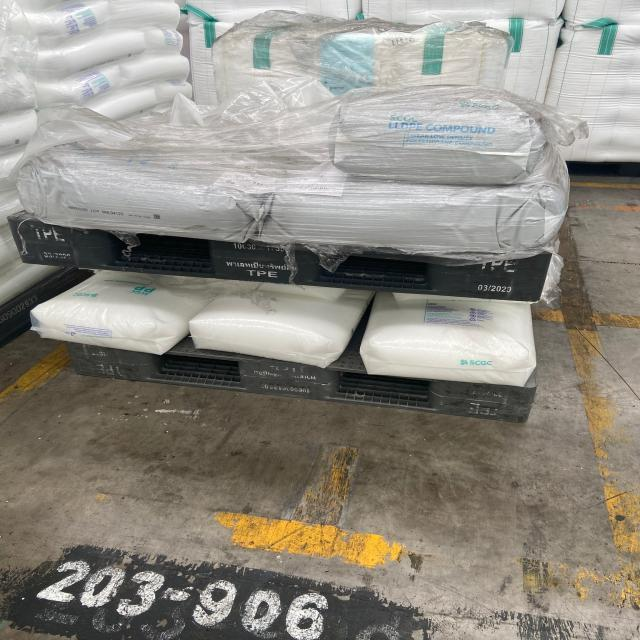gunny_bag: (267, 182, 567, 253), (17, 153, 264, 239), (329, 93, 539, 186), (360, 291, 535, 387), (32, 273, 225, 356), (191, 284, 374, 366)
